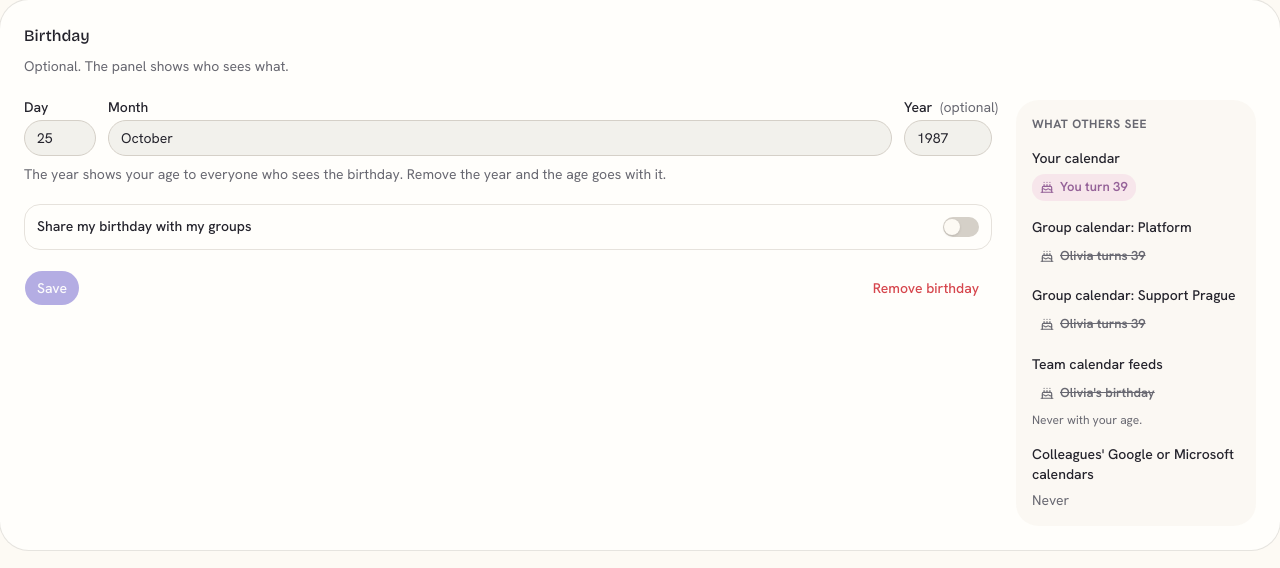
Test: BirthdayCard › explains a 402 with the lapsed line
Click the switch named "Share my birthday with my groups" at (961, 227), box [943,217,979,237]
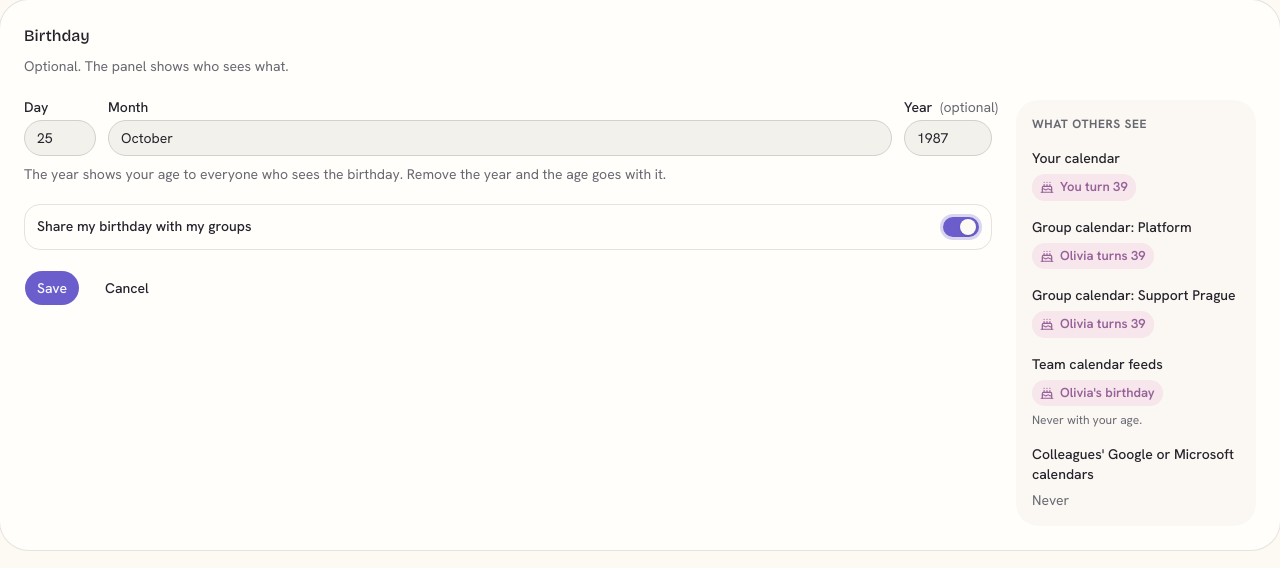
Click the button "Save" at (52, 288), box [24,270,80,306]
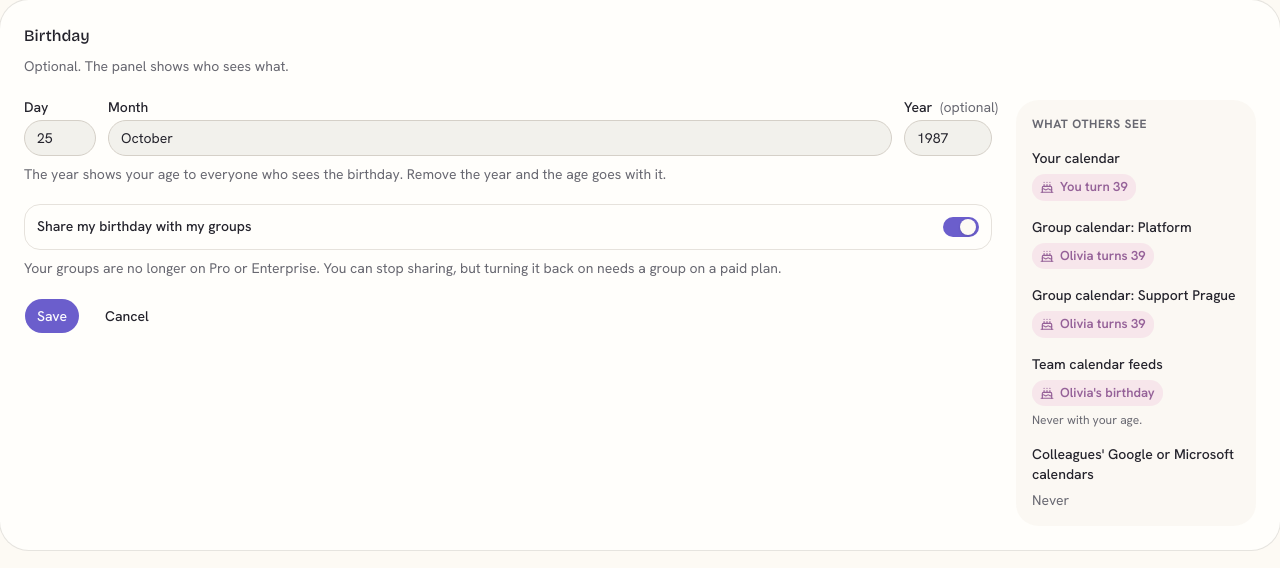
Now the text "Your groups are no longer on Pro or Enterprise" is shown, box [24,259,781,277]
